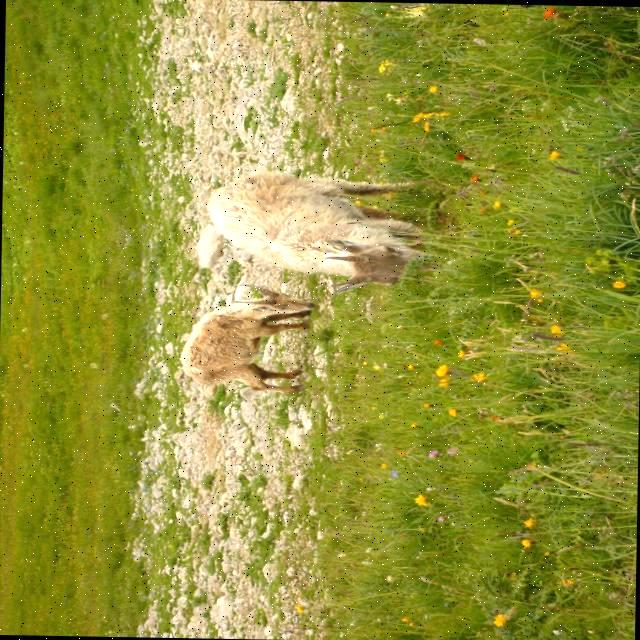sheep: (206, 166, 425, 286), (179, 284, 310, 391)
